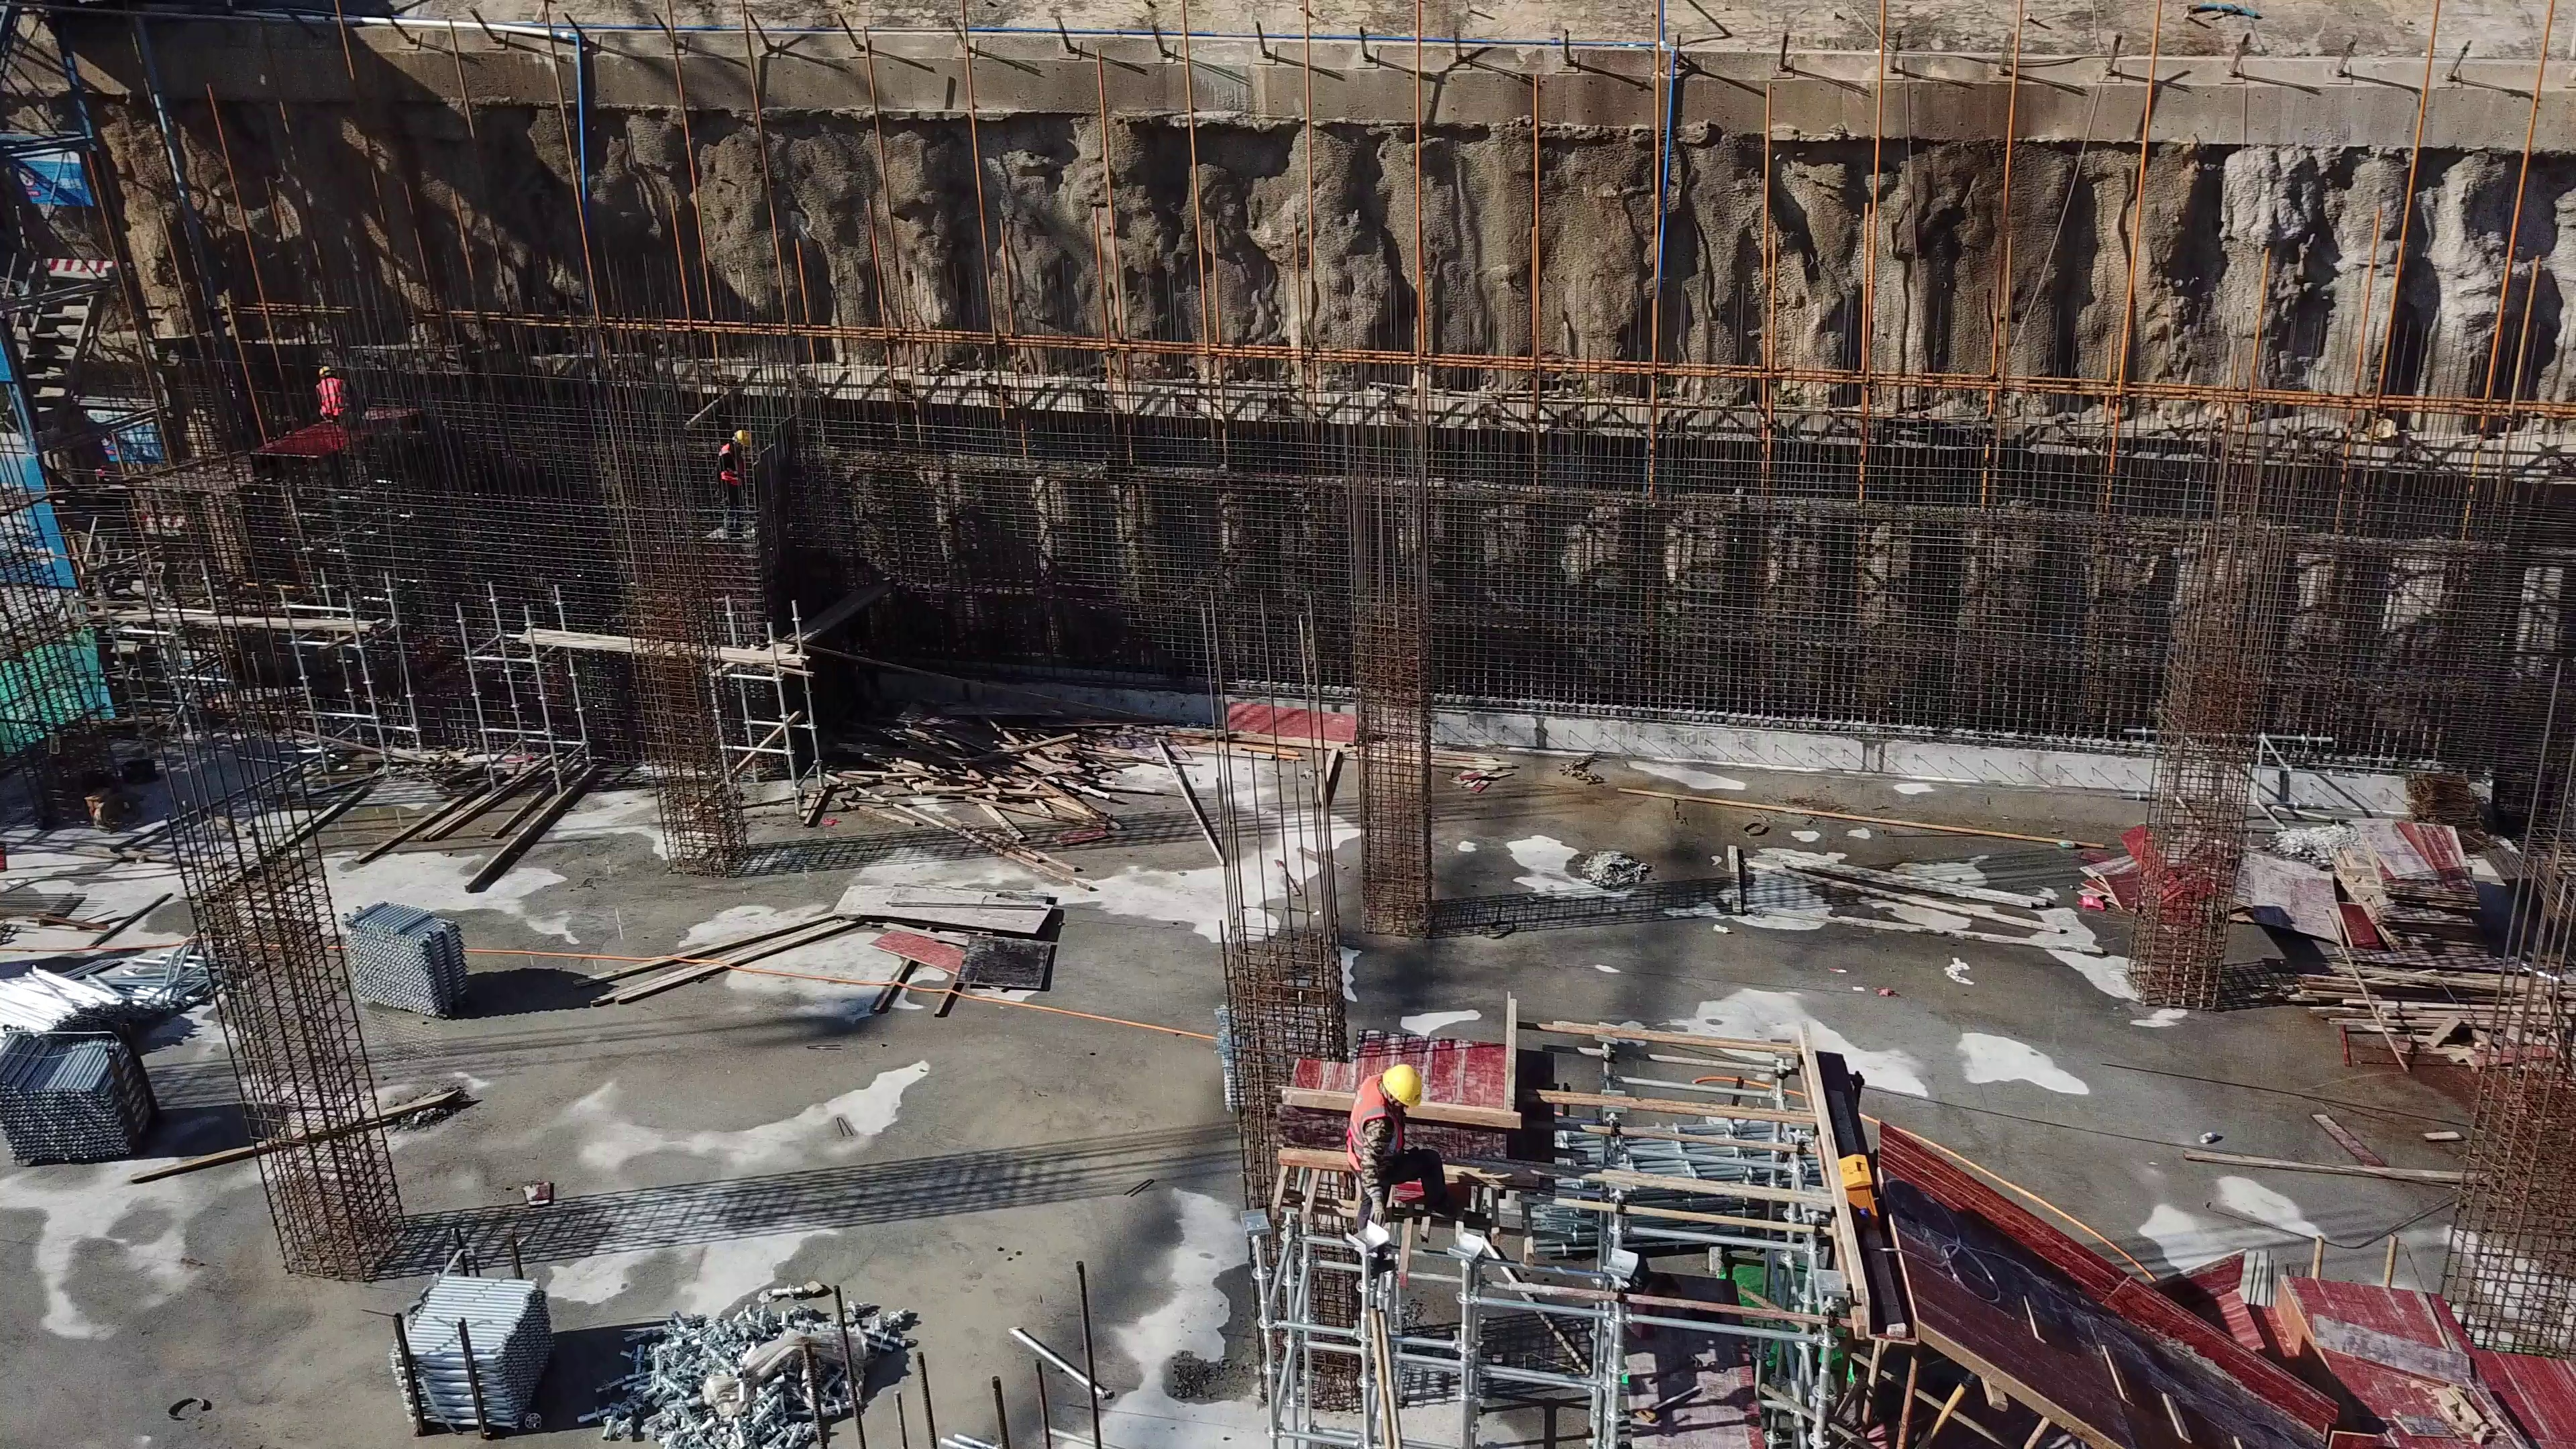helmet: (1380, 1071, 1417, 1108), (733, 427, 754, 448), (318, 364, 334, 378)
person: (1332, 1057, 1466, 1227), (708, 430, 757, 533), (313, 366, 358, 423)
vest: (1339, 1084, 1394, 1173), (316, 377, 348, 414), (719, 444, 743, 482)
